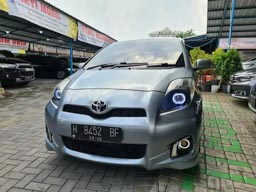plat: (70, 123, 124, 137)
